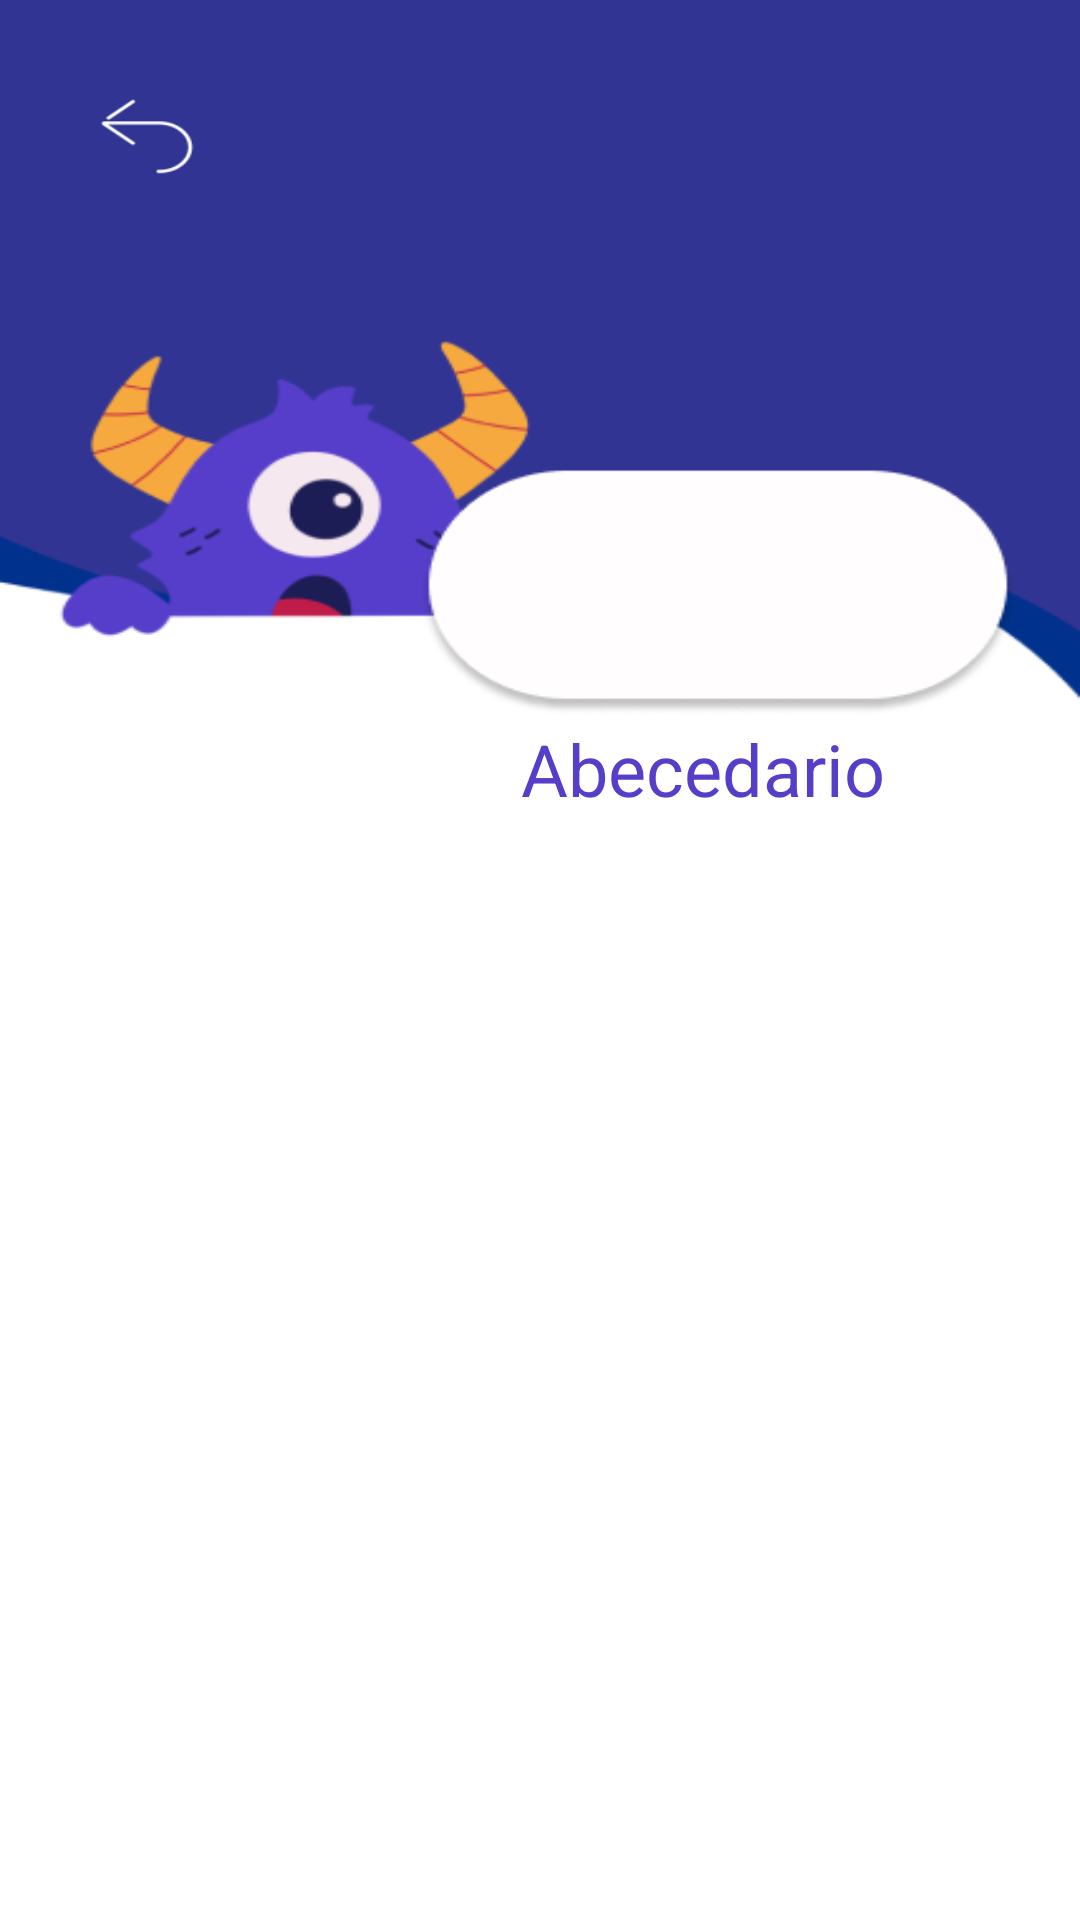

Where icons sit on this 1080px×1920px app screen, as (x1,y1,x2,y2):
back: (101,99,193,174)
